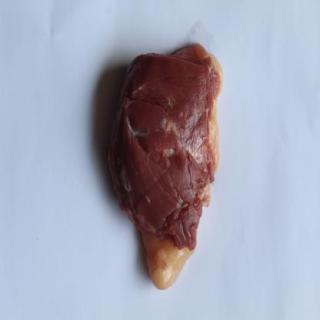Daging Sapi: (111, 43, 222, 291)
